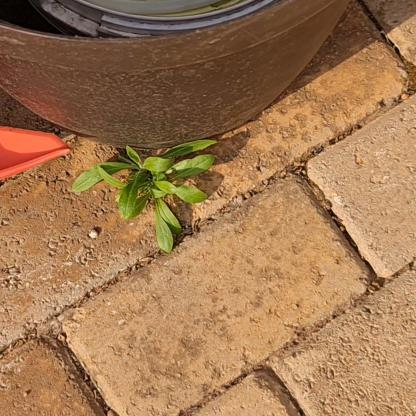Weeds: (72, 138, 219, 254)
